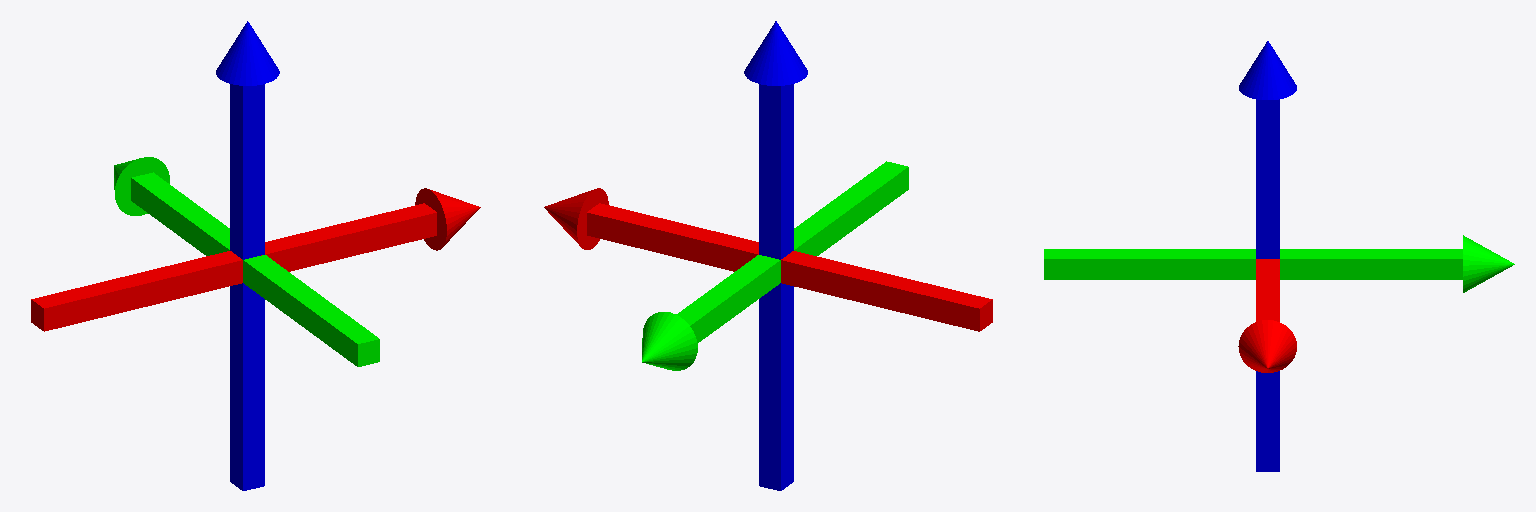
The robot description file, URDF, robot "combine":
<?xml version="1.0"?>
<robot name="combine">
  <!-- link -->
  <link name="stick1">
    <visual>
      <origin xyz="0 0 -0.95"/>
      <geometry>
         <mesh filename="../meshes/axis.stl"/>
      </geometry>
      <material>
        <color rgba="0.0 0.0 1.0 1.0"/>
      </material>
    </visual>
  </link>
  <link name="stick2">
    <visual>
      <origin xyz="0 0 -0.95"/>
      <geometry>
         <mesh filename="../meshes/axis.stl"/>
      </geometry>
      <material>
        <color rgba="0.0 1.0 0.0 1.0"/>
      </material>
    </visual>
  </link>
  <link name="stick3">
    <visual>
      <origin xyz="0 0 -0.95"/>
      <geometry>
         <mesh filename="../meshes/axis.stl"/>
      </geometry>
      <material>
        <color rgba="1.0 0.0 0.0 1.0"/>
      </material>
    </visual>
  </link>
   <joint name = "TIP1" type="fixed">
      <origin xyz="0.0 0.0 0.0" rpy="0 1.57 1.57"/>
      <parent link="stick1"/>
      <child link="stick2"/>
   </joint>
   <joint name = "TIP2" type="fixed">
      <origin xyz="0.0 0.0 0.0" rpy="1.57 0 1.57"/>
      <parent link="stick1"/>
      <child link="stick3"/>
   </joint>

</robot>

--- What the picture shows (computed from the rendered views, not written in the file) ---
3 views of the same robot in one strip: view 1: azimuth 30°, elevation 25°; view 2: azimuth 150°, elevation 25°; view 3: azimuth 270°, elevation 25° (orthographic).
Robot: combine — 3 links, 2 joints (2 fixed); root link stick1; default pose: every joint at zero.
Links seen in each view (by area): view 1: stick1, stick3, stick2; view 2: stick1, stick3, stick2; view 3: stick2, stick1, stick3.
Boxes of the visible links, x1,y1,x2,y2 form: stick1: (216,21,279,490); stick3: (31,188,480,331); stick2: (114,157,379,366); stick1: (744,21,807,490); stick3: (544,188,992,331); stick2: (642,161,908,370); stick2: (1044,235,1514,292); stick1: (1239,41,1296,471); stick3: (1238,259,1296,372).
Bounding box of the posed robot: 2 × 2 × 2 m (x, y, z).
3 mesh visuals loaded from 1 distinct referenced files (1 binary STL).
